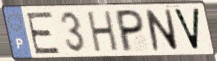3: (59, 10, 88, 55)
E: (24, 10, 62, 56)
H: (86, 9, 120, 54)
N: (144, 8, 180, 53)
P: (116, 8, 145, 54)
V: (171, 7, 202, 52)
